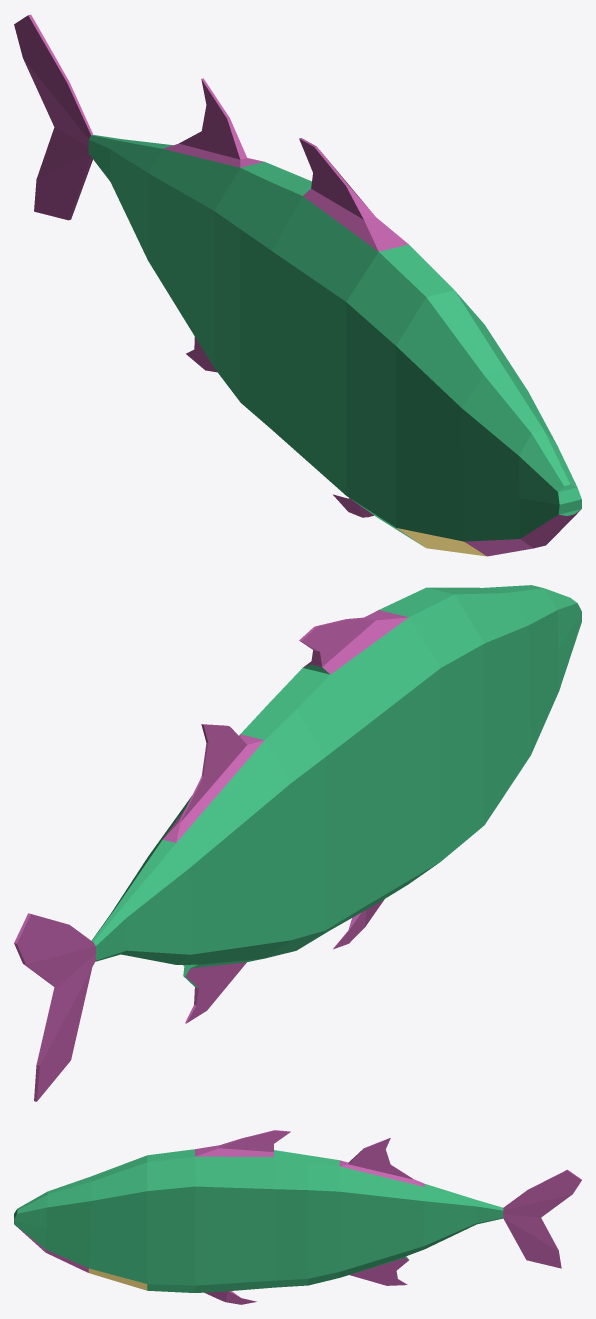
The model's file is fish_lp_1_2.fbx.
3 renders of one model, top to bottom at view 1: azimuth 30°, elevation 25°; view 2: azimuth 150°, elevation 25°; view 3: azimuth 270°, elevation 25°, orthographic. The views are drawn at different scales.
Visible parts, largest first — view 1: Fish; view 2: Fish; view 3: Fish.
Boxes of the visible parts, bbox=[...] form: Fish: bbox=[14, 14, 581, 556]; Fish: bbox=[14, 585, 581, 1101]; Fish: bbox=[14, 1130, 581, 1304].
Bounding box in the file's own units: 30.8 × 106 × 313.
